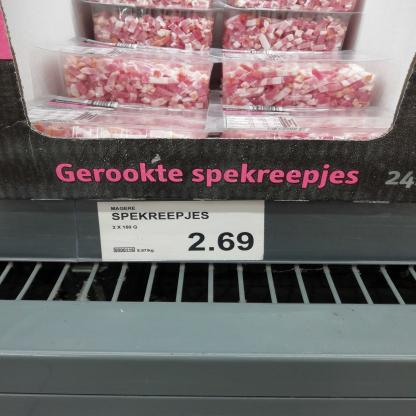prtg: (98, 201, 266, 262)
